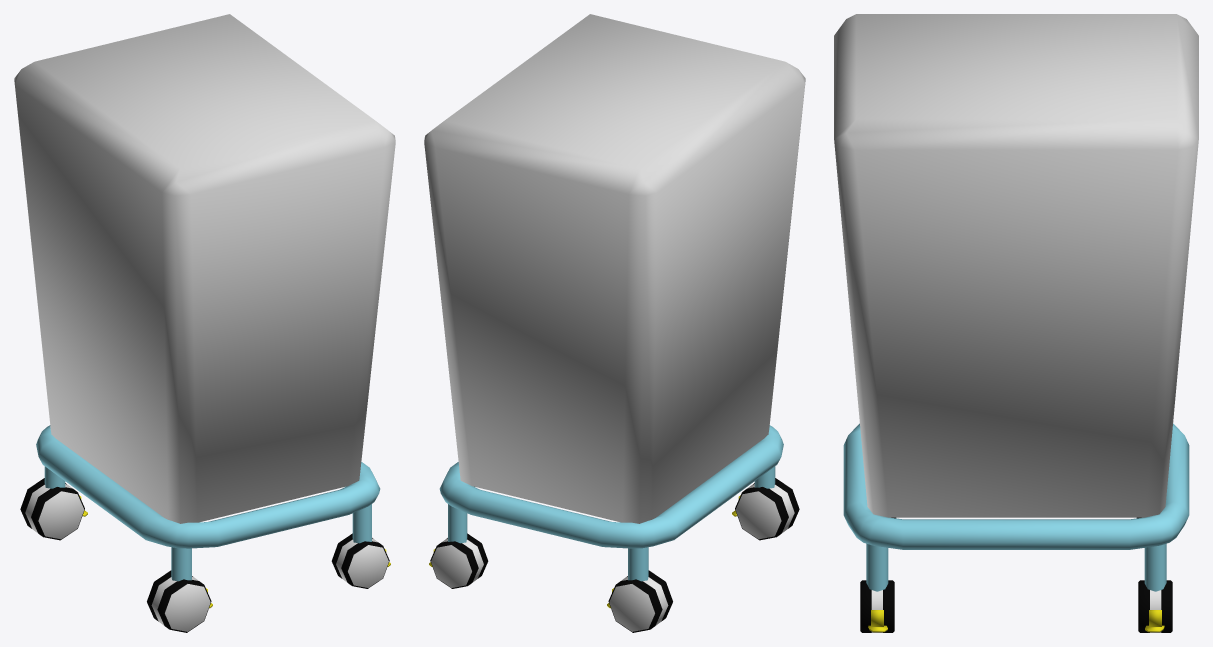
Rendered from mrFrosty.fbx.
3 views of the same model, side by side, from view 1: azimuth 30°, elevation 25°; view 2: azimuth 150°, elevation 25°; view 3: azimuth 270°, elevation 25° (orthographic). The views are drawn at different scales.
Parts seen in each view (by area): view 1: Frosty; view 2: Frosty; view 3: Frosty.
Part boxes in pixels (bbox=[...]): Frosty: bbox=[14, 14, 395, 632]; Frosty: bbox=[424, 14, 805, 632]; Frosty: bbox=[834, 14, 1198, 632].
Size of the model in its own units: 50.4 by 95.19 by 61.
